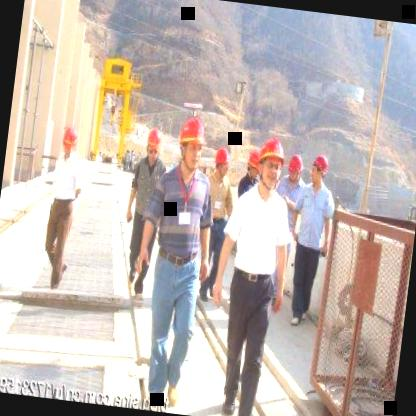helmet: (249, 132, 290, 193), (175, 114, 207, 170), (57, 121, 83, 162), (209, 140, 232, 181), (142, 126, 165, 166), (282, 148, 304, 189), (308, 149, 330, 187), (243, 143, 262, 182)
